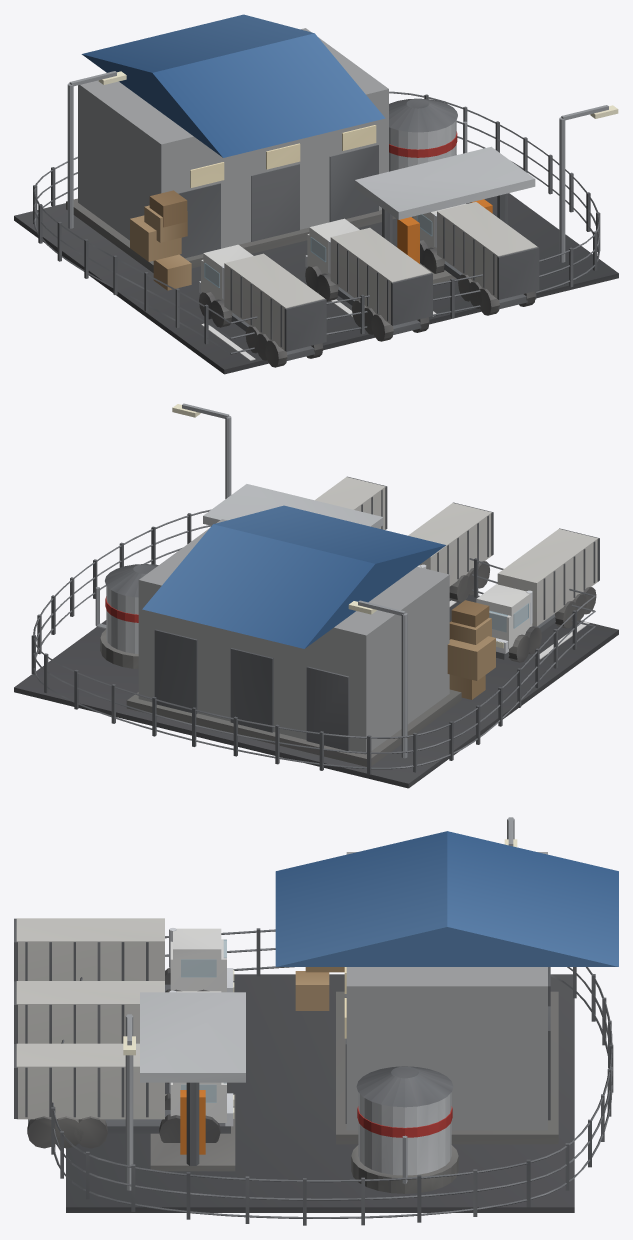
File: Fleet_P2.fbx
3 renders of one model, top to bottom at view 1: azimuth 30°, elevation 25°; view 2: azimuth 150°, elevation 25°; view 3: azimuth 270°, elevation 25°, orthographic. The views are drawn at different scales.
Parts seen in each view (by area): view 1: Fleet.Garage, Fleet.Yard, Fleet.Parked0, Fleet.Parked1, Fleet.Parked2, Fleet.FuelIsland, Fleet.Doors, Fleet.Fence, Fleet.FuelTank, Fleet.Crates, Fleet.Lamp0, Fleet.Lamp1; view 2: Fleet.Garage, Fleet.Yard, Fleet.Parked0, Fleet.Fence, Fleet.Parked1, Fleet.Crates, Fleet.FuelTank, Fleet.FuelIsland, Fleet.Parked2, Fleet.Lamp0, Fleet.Lamp1; view 3: Fleet.Garage, Fleet.Yard, Fleet.Parked2, Fleet.FuelIsland, Fleet.Parked0, Fleet.FuelTank, Fleet.Fence, Fleet.Parked1, Fleet.Crates, Fleet.Lamp1.
Part boxes in pixels (x1,y1,x2,y2): Fleet.Garage: (66,14,395,272); Fleet.Yard: (14,193,618,374); Fleet.Parked0: (199,244,326,367); Fleet.Parked1: (305,218,432,341); Fleet.Parked2: (413,202,539,315); Fleet.FuelIsland: (354,146,535,283); Fleet.Doors: (178,145,378,258); Fleet.Fence: (33,91,600,354); Fleet.FuelTank: (389,98,467,171); Fleet.Crates: (130,190,191,290); Fleet.Lamp0: (67,71,126,228); Fleet.Lamp1: (559,105,618,262); Fleet.Garage: (126,505,461,766); Fleet.Yard: (14,594,618,788); Fleet.Parked0: (476,528,599,662); Fleet.Fence: (31,509,595,774); Fleet.Parked1: (408,502,493,602); Fleet.Crates: (447,600,495,699); Fleet.FuelTank: (95,564,158,669); Fleet.FuelIsland: (203,484,383,528); Fleet.Parked2: (315,476,387,529); Fleet.Lamp0: (348,600,407,758); Fleet.Lamp1: (172,403,231,498); Fleet.Garage: (275,831,618,1144); Fleet.Yard: (66,974,574,1212); Fleet.Parked2: (14,1043,234,1148); Fleet.FuelIsland: (140,992,245,1171); Fleet.Parked0: (14,918,234,992); Fleet.FuelTank: (351,1066,458,1193); Fleet.Fence: (51,928,613,1225); Fleet.Parked1: (14,981,221,1083); Fleet.Crates: (295,967,344,1010); Fleet.Lamp1: (123,1014,135,1190).
Size of the model in its own units: 2895 by 1040 by 2855.
